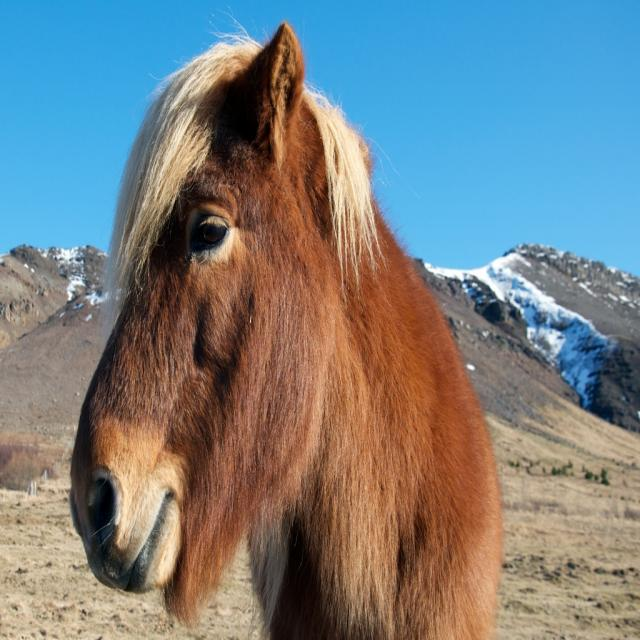Horse: (67, 0, 504, 639)
